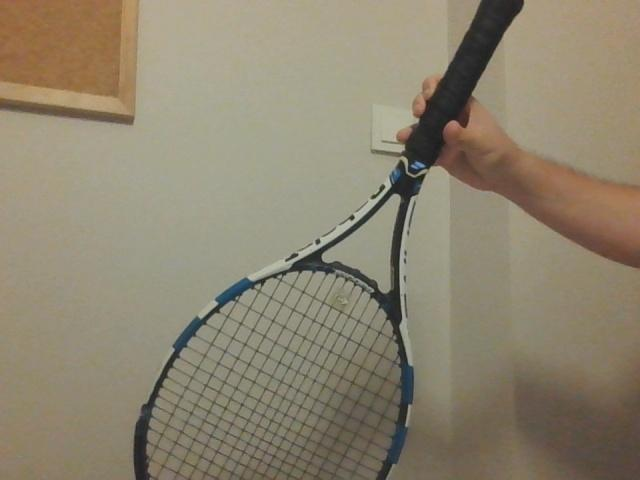Tennis-Racket: (134, 3, 526, 480)
